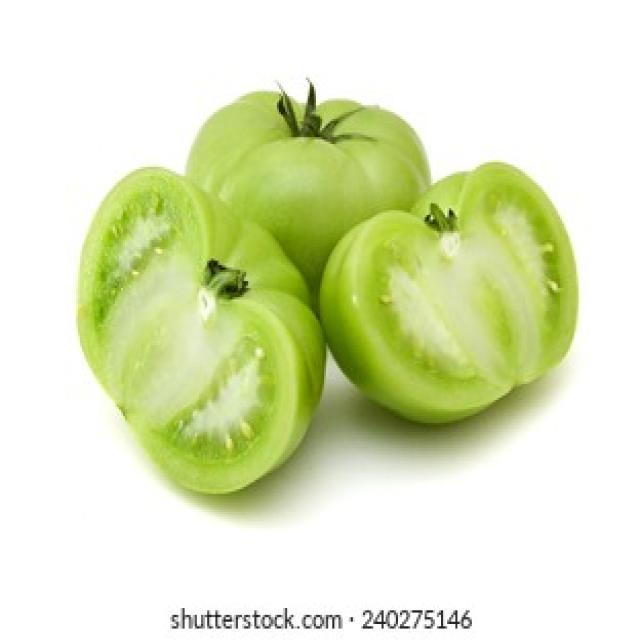unripe tomato: (66, 76, 573, 507)
